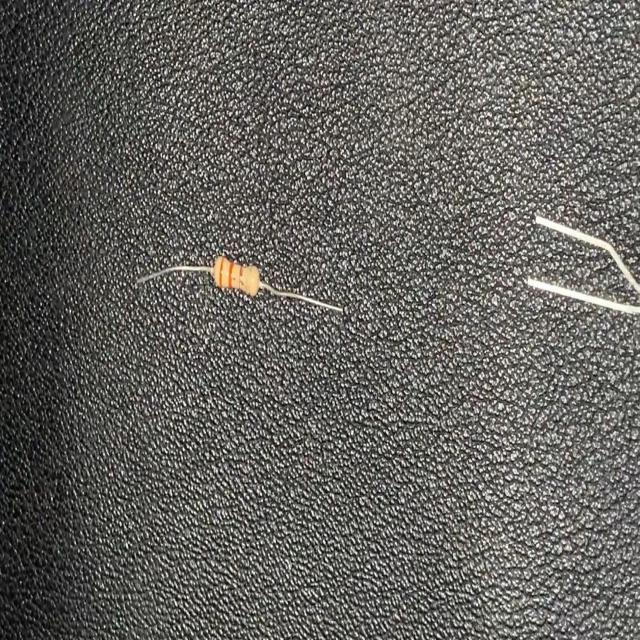faded: (239, 259, 254, 297)
resistor: (136, 255, 348, 323)
